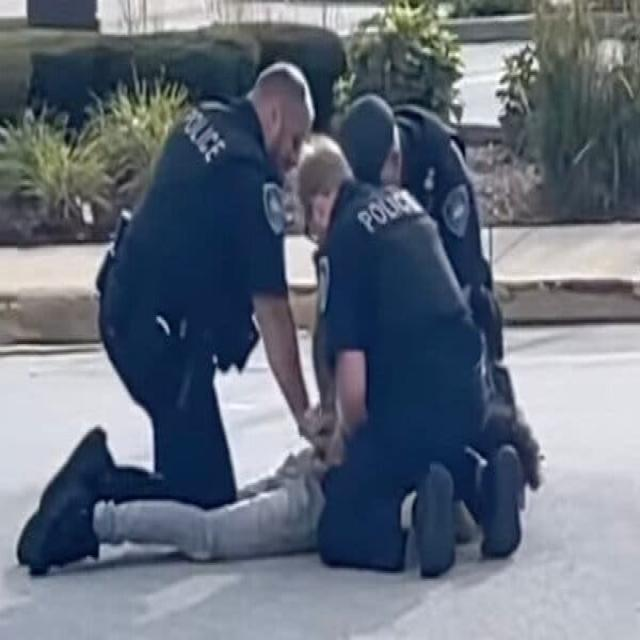police: (70, 40, 308, 492), (290, 113, 510, 570)
